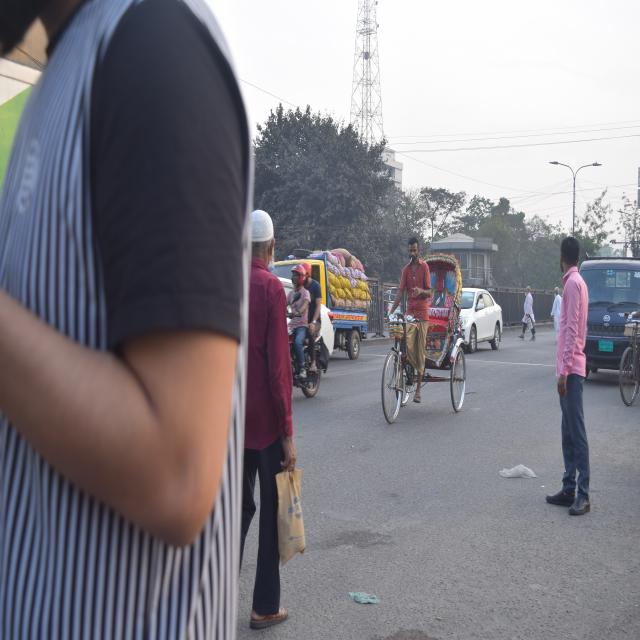car: (452, 278, 505, 355)
microbus: (583, 250, 640, 384)
motorbike: (282, 295, 318, 411)
pickup-van: (319, 242, 375, 382)
